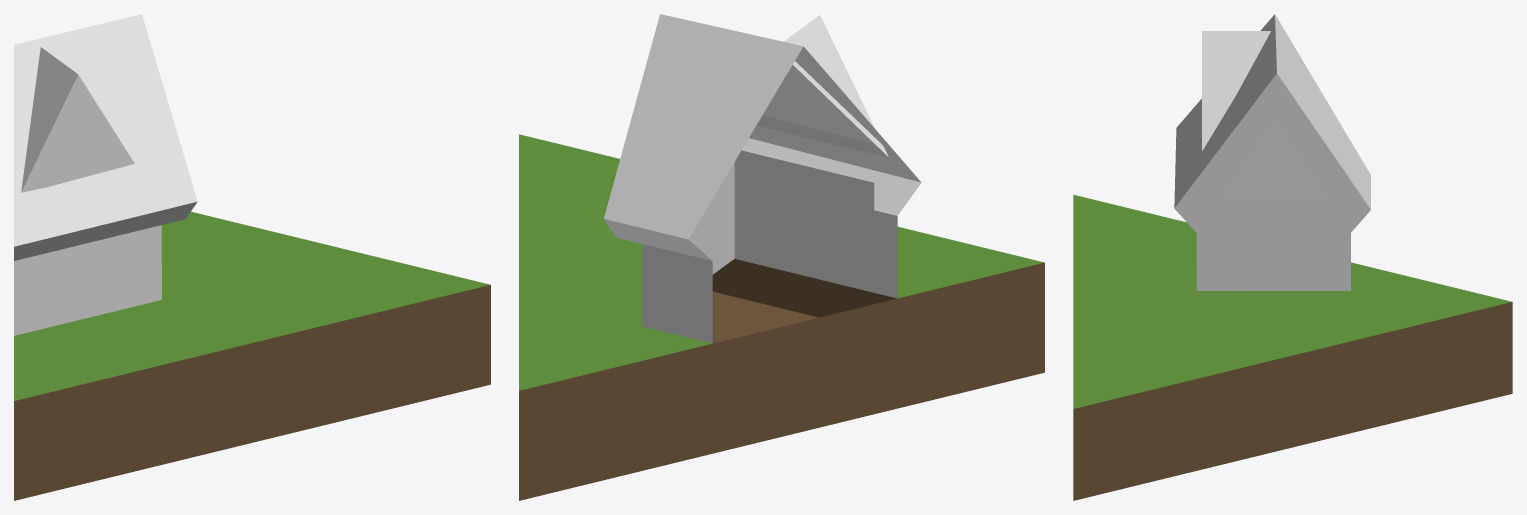
The model's file is Casa_Cantonera_E.fbx.
3 views of the same model, side by side, from view 1: azimuth 30°, elevation 25°; view 2: azimuth 150°, elevation 25°; view 3: azimuth 270°, elevation 25° (orthographic). The views are drawn at different scales.
Parts seen in each view (by area): view 1: Casa_Cantonera_E, DetallCantonada.001, DetallTeulada.003; view 2: Casa_Cantonera_E, DetallCantonada.001, DetallTeulada.003; view 3: Casa_Cantonera_E, DetallCantonada.001, DetallAltell.002, DetallTeulada.003.
Part boxes in pixels (box(x1,y1,x2,y2)): Casa_Cantonera_E: box(14, 14, 490, 500); DetallCantonada.001: box(35, 225, 161, 330); DetallTeulada.003: box(21, 47, 134, 192); Casa_Cantonera_E: box(519, 14, 1044, 500); DetallCantonada.001: box(688, 150, 874, 292); DetallTeulada.003: box(757, 15, 888, 157); Casa_Cantonera_E: box(1073, 14, 1512, 500); DetallCantonada.001: box(1196, 199, 1331, 290); DetallAltell.002: box(1219, 118, 1327, 199); DetallTeulada.003: box(1202, 31, 1270, 150).
Size of the model in its own units: 100 by 70 by 86.62.
